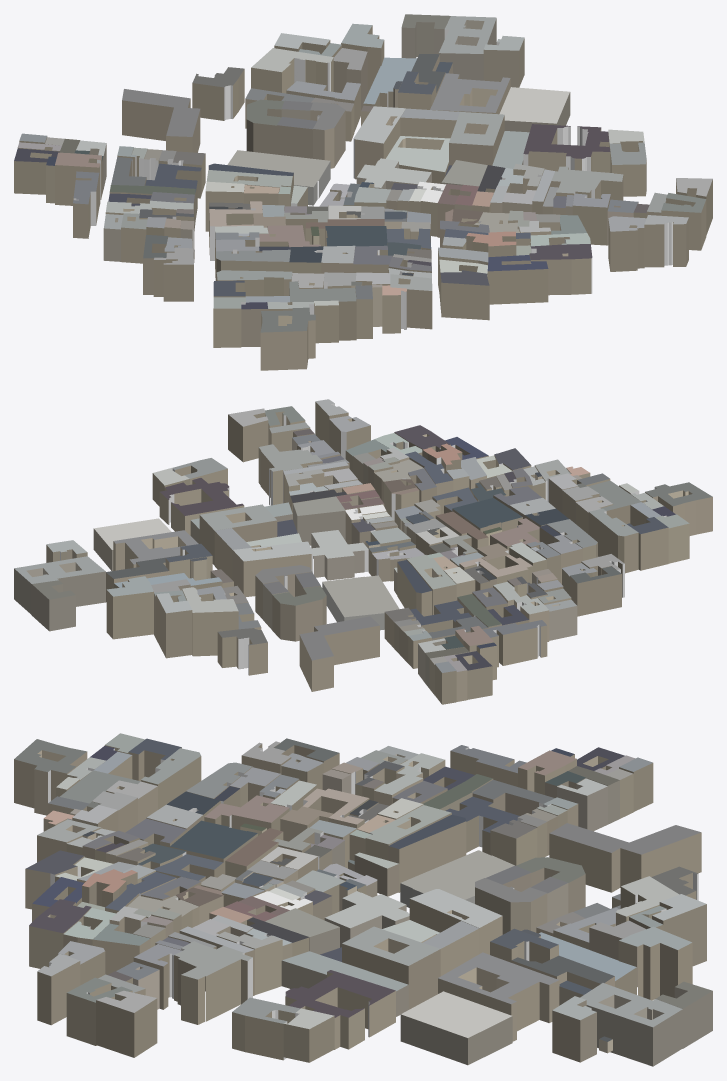
The picture shows the model from 3 angles, top to bottom: view 1: azimuth 30°, elevation 25°; view 2: azimuth 150°, elevation 25°; view 3: azimuth 270°, elevation 25°; orthographic projection. The views are drawn at different scales.
Parts seen in each view (by area): view 1: tuile; view 2: tuile; view 3: tuile.
Part boxes in pixels (box(x1,y1,x2,y2)): tuile: box(14, 14, 712, 370); tuile: box(14, 399, 712, 704); tuile: box(14, 733, 712, 1066).
Size of the model in its own units: 268 by 26.19 by 274.
